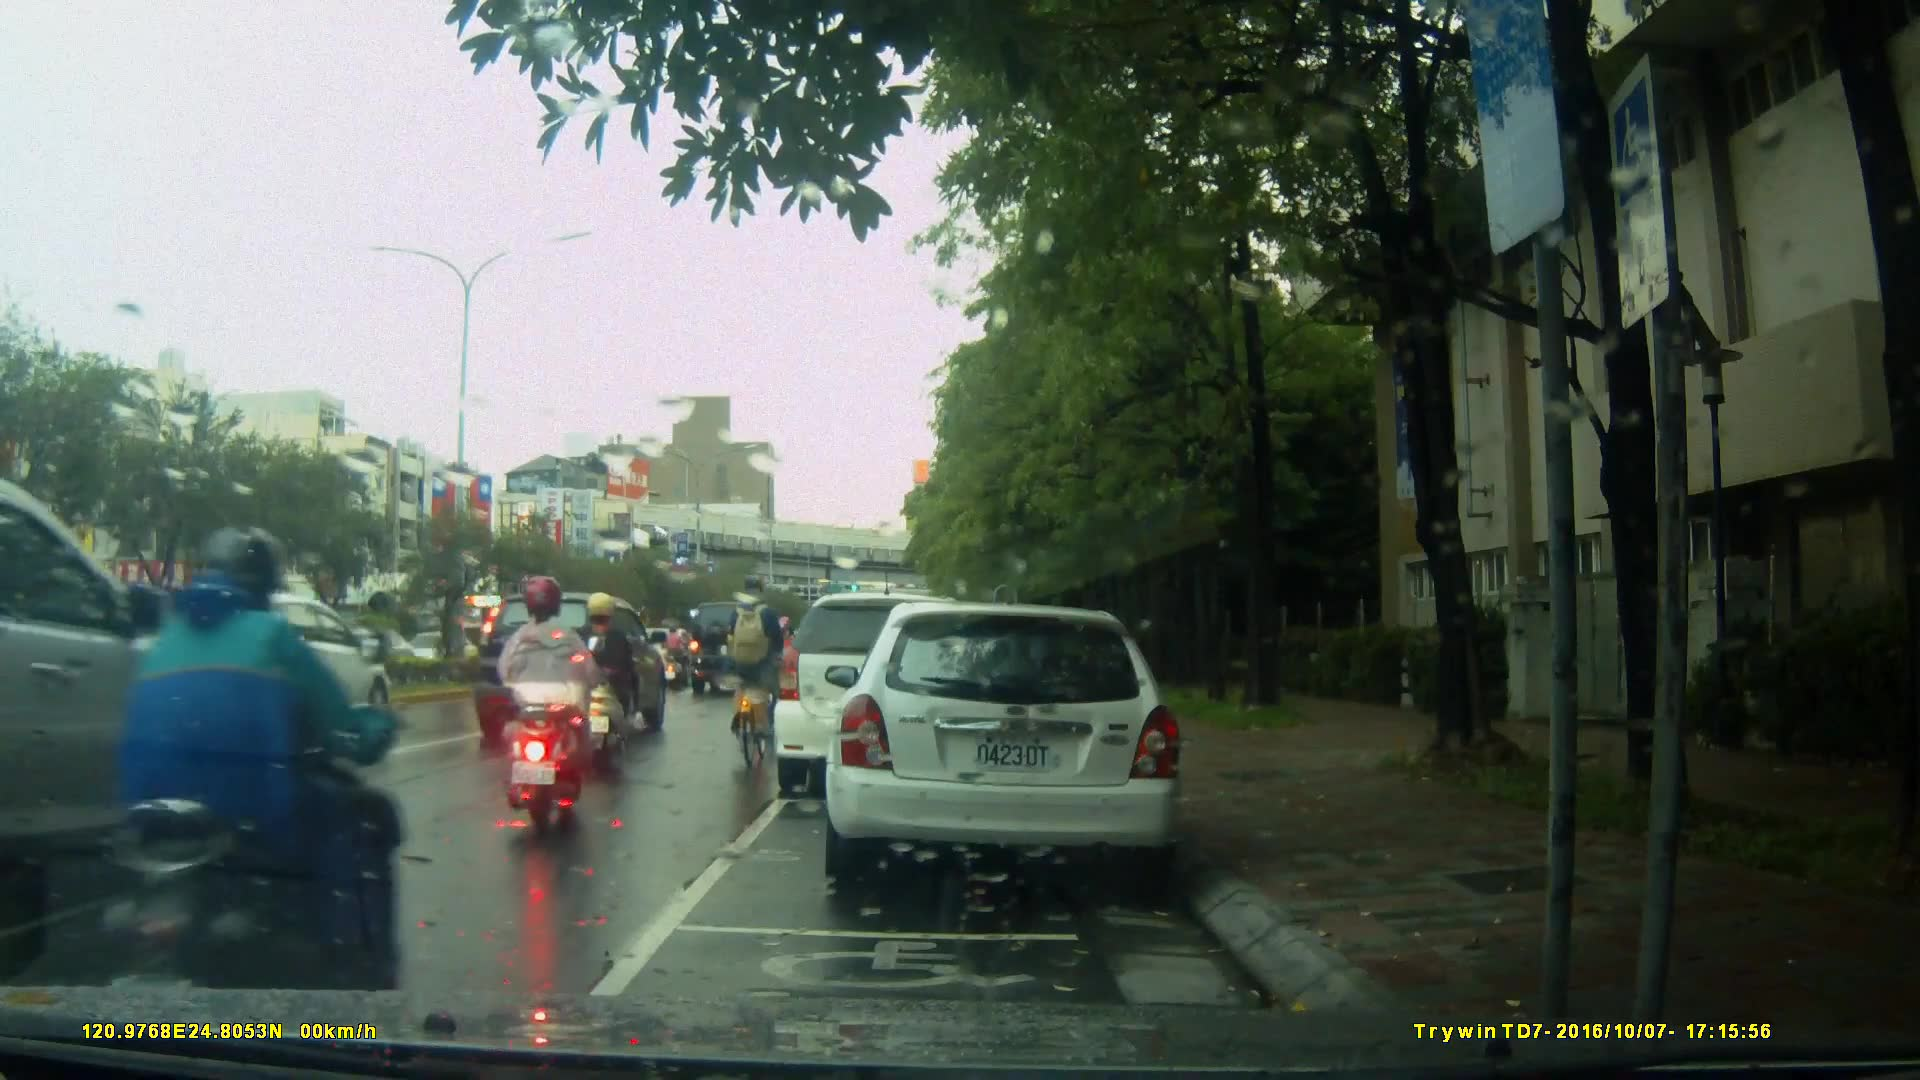rider: (86, 526, 385, 1067), (496, 576, 609, 828), (723, 579, 786, 771), (573, 590, 637, 767), (660, 618, 691, 691)
vehicle: (1, 479, 320, 991), (822, 604, 1188, 883), (774, 595, 995, 802), (465, 591, 670, 754)
